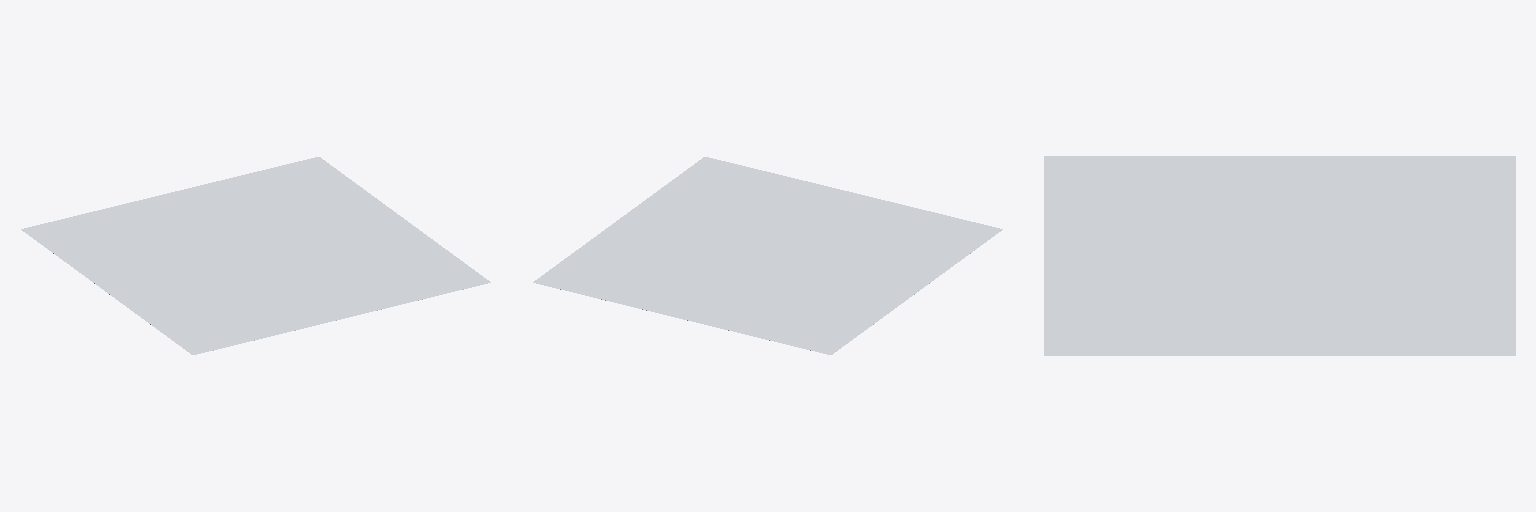
robot.urdf — simpleplane:
<?xml version="1.0"?> 
<robot name="simpleplane">
    <!-- Colors --> 
    <material name="grey"> 
        <color rgba="0.91 0.925 0.945 1"/>
    </material>

    <!-- Plane -->
    <link name="base_link">
        <visual> 
            <geometry> 
                <box size="100 100 0.01"/>
                <origin rpy="0 0 0" xyz="-10 -10 -0.005"/>
            </geometry>
            <material name="grey"/>
        </visual>
        <collision> 
             <geometry> 
                <box size="100 100 0.01"/>
                <origin rpy="0 0 0" xyz="-10 -10 -0.005"/>
            </geometry>
        </collision> 
        <inertial> 
            <mass value="0"/>
            <inertia ixx="0" ixy="0" ixz="0" iyy="0" iyz="0" izz="0"/>
        </inertial> 
        <surface>
            <bounce restitution_coefficient="1.0" threshold="0.01"/>
        </surface>
        <contact> 
            <restitution value="0.0"/>
            <lateral_friction value="4"/>
            <spinning_friction value="0.0"/>
        </contact>
    </link> 
</robot>

--- Render facts (derived) ---
Views: 3 orthographic renders of the robot side by side, from view 1: azimuth 30°, elevation 25°; view 2: azimuth 150°, elevation 25°; view 3: azimuth 270°, elevation 25°.
Robot: simpleplane — 1 links, 0 joints (none); root link base_link; default pose: all joints at 0.
Visible links, largest first — view 1: base_link; view 2: base_link; view 3: base_link.
Link boxes in pixels (x1=…): base_link: x1=21, y1=157, x2=490, y2=354; base_link: x1=533, y1=157, x2=1002, y2=354; base_link: x1=1044, y1=156, x2=1515, y2=355.
Size in the robot's own frame: 100 by 100 by 0.01 metres.
Geometry: primitives only (box / cylinder / sphere), no mesh files.
